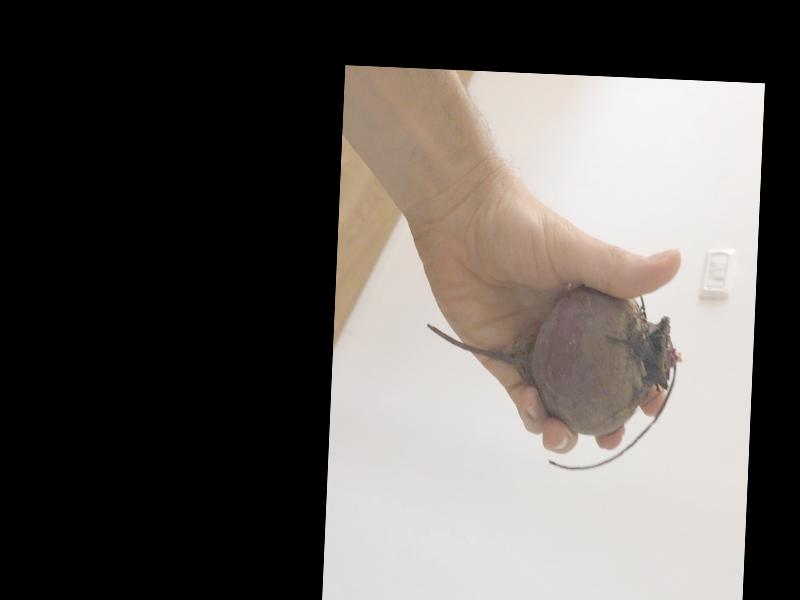Beet: (421, 284, 683, 476)
